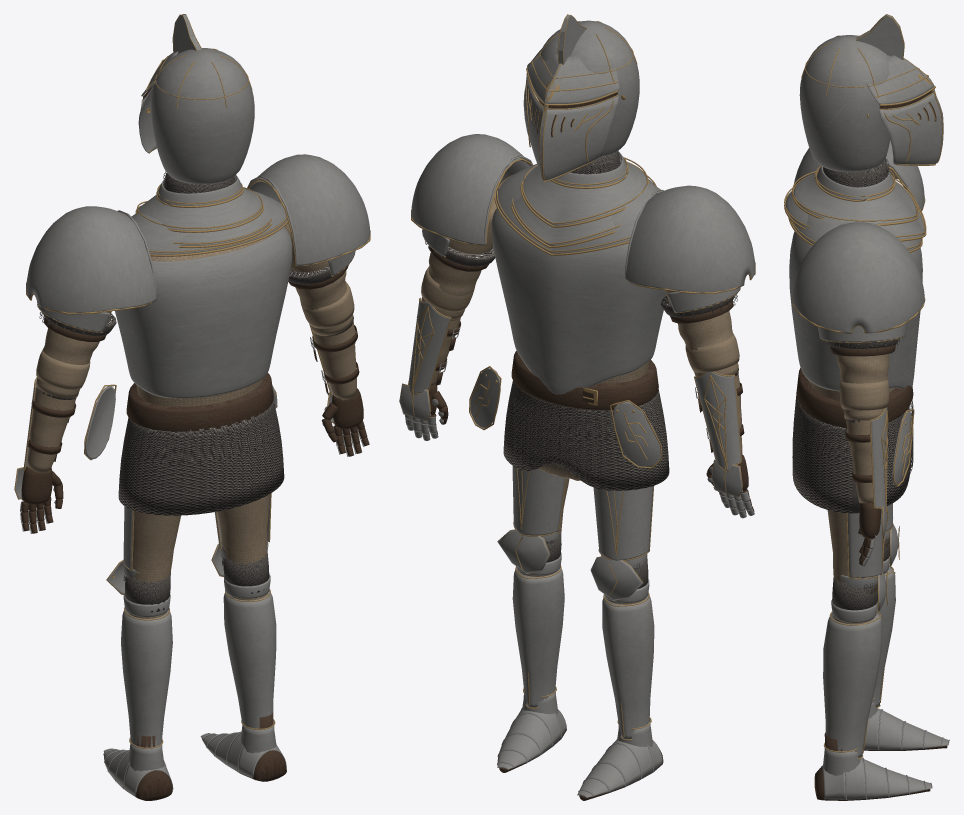
Rendered from knight.obj.
The picture shows the model from 3 angles, left to right: view 1: azimuth 30°, elevation 25°; view 2: azimuth 150°, elevation 25°; view 3: azimuth 270°, elevation 25°; orthographic projection.
Parts seen in each view (by area): view 1: Cuirass__flattened_ribcage_and_pointed_abdominal_keel, Chainmail_skirt__flared_split_hem, Helm__domed_segmented_skull, R_pauldron__broad_forged_shoulder_wing, L_pauldron__broad_forged_shoulder_wing, Right_shin__ridged_close-fitting_greave, Left_shin__ridged_close-fitting_greave, Leather_girdle__fitted_waist_belt, Right_leg__tailored_tan_chausses, Gorget__upper_overlapping_V_collar, Left_leg__tailored_tan_chausses, Gorget__lower_V-shaped_mantle (+22 smaller); view 2: Cuirass__flattened_ribcage_and_pointed_abdominal_keel, R_pauldron__broad_forged_shoulder_wing, Chainmail_skirt__flared_split_hem, L_pauldron__broad_forged_shoulder_wing, Right_shin__ridged_close-fitting_greave, Left_shin__ridged_close-fitting_greave, Helm__domed_segmented_skull, Helm__ruled_pointed_visor_-1, Gorget__upper_overlapping_V_collar, Right_leg__fitted_cuisse, Mail_skirt__real_interlinked_front_relief, Leather_girdle__fitted_waist_belt (+26 smaller); view 3: L_pauldron__broad_forged_shoulder_wing, Helm__domed_segmented_skull, Left_shin__ridged_close-fitting_greave, Chainmail_skirt__flared_split_hem, Cuirass__flattened_ribcage_and_pointed_abdominal_keel, Helm__ruled_pointed_visor_1, Gorget__upper_overlapping_V_collar, Leather_girdle__fitted_waist_belt, Helm__forged_brow_plate_1, Left_arm__gathered_tan_upper_sleeve, Left_leg__fitted_cuisse, Left_arm__tan_forearm_arming_sleeve (+30 smaller).
Part boxes in pixels (<box>): Cuirass__flattened_ribcage_and_pointed_abdominal_keel: <box>115,226,292,398</box>; Chainmail_skirt__flared_split_hem: <box>118,400,284,515</box>; Helm__domed_segmented_skull: <box>151,48,254,184</box>; R_pauldron__broad_forged_shoulder_wing: <box>26,206,156,312</box>; L_pauldron__broad_forged_shoulder_wing: <box>249,154,370,265</box>; Right_shin__ridged_close-fitting_greave: <box>121,610,172,747</box>; Left_shin__ridged_close-fitting_greave: <box>223,590,276,728</box>; Leather_girdle__fitted_waist_belt: <box>126,373,273,431</box>; Right_leg__tailored_tan_chausses: <box>132,510,180,583</box>; Gorget__upper_overlapping_V_collar: <box>137,188,262,230</box>; Left_leg__tailored_tan_chausses: <box>217,494,269,565</box>; Gorget__lower_V-shaped_mantle: <box>131,189,287,254</box>; Cuirass__flattened_ribcage_and_pointed_abdominal_keel: <box>491,208,666,394</box>; R_pauldron__broad_forged_shoulder_wing: <box>625,185,755,292</box>; Chainmail_skirt__flared_split_hem: <box>503,381,669,490</box>; L_pauldron__broad_forged_shoulder_wing: <box>411,134,530,245</box>; Right_shin__ridged_close-fitting_greave: <box>602,595,654,739</box>; Left_shin__ridged_close-fitting_greave: <box>512,568,564,707</box>; Helm__domed_segmented_skull: <box>538,20,639,156</box>; Helm__ruled_pointed_visor_-1: <box>541,96,618,180</box>; Gorget__upper_overlapping_V_collar: <box>522,160,647,225</box>; Right_leg__fitted_cuisse: <box>593,486,653,560</box>; Mail_skirt__real_interlinked_front_relief: <box>513,397,612,478</box>; Leather_girdle__fitted_waist_belt: <box>511,351,658,410</box>; L_pauldron__broad_forged_shoulder_wing: <box>792,222,924,333</box>; Helm__domed_segmented_skull: <box>799,35,895,172</box>; Left_shin__ridged_close-fitting_greave: <box>823,613,882,757</box>; Chainmail_skirt__flared_split_hem: <box>792,395,912,513</box>; Cuirass__flattened_ribcage_and_pointed_abdominal_keel: <box>789,231,922,391</box>; Helm__ruled_pointed_visor_1: <box>879,92,943,164</box>; Gorget__upper_overlapping_V_collar: <box>793,174,916,223</box>; Leather_girdle__fitted_waist_belt: <box>796,368,913,427</box>; Helm__forged_brow_plate_1: <box>866,55,934,105</box>; Left_arm__gathered_tan_upper_sleeve: <box>837,353,888,420</box>; Left_leg__fitted_cuisse: <box>847,509,883,578</box>; Left_arm__tan_forearm_arming_sleeve: <box>846,420,873,503</box>.
Size of the model in its own units: 0.9727 by 2.02 by 0.4022.
Materials: 6 (6 with a texture image).
